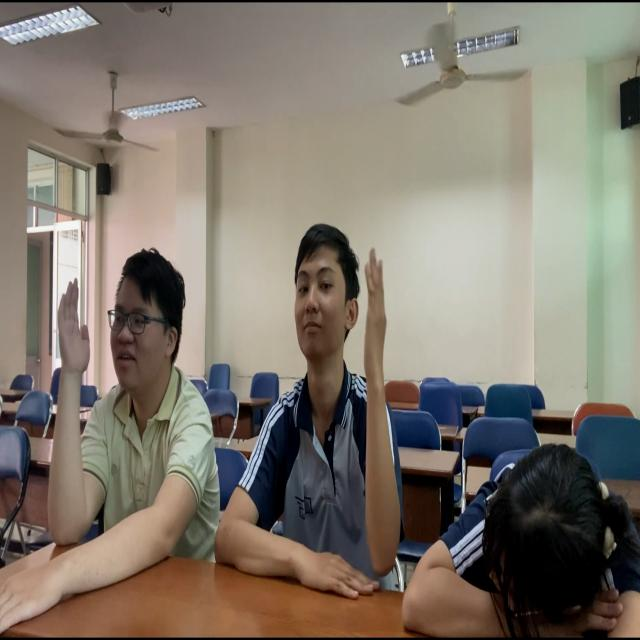raise_hand: (1, 230, 225, 635), (223, 214, 416, 614)
sleep: (398, 402, 640, 640)
